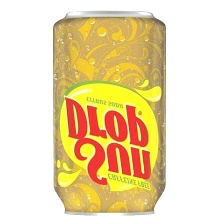can: (50, 8, 169, 216)
